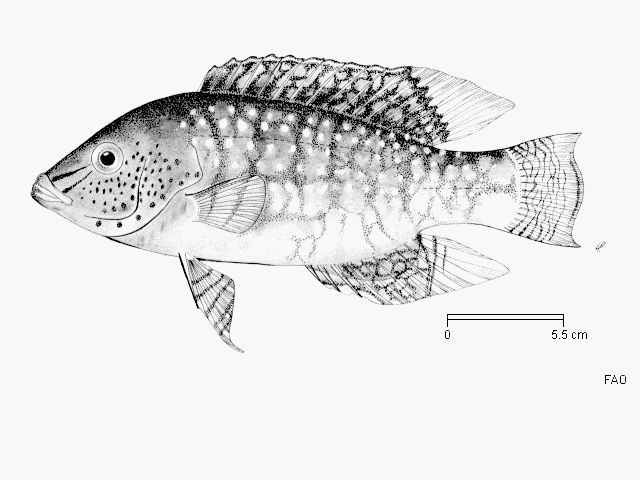fish: (30, 56, 585, 353)
